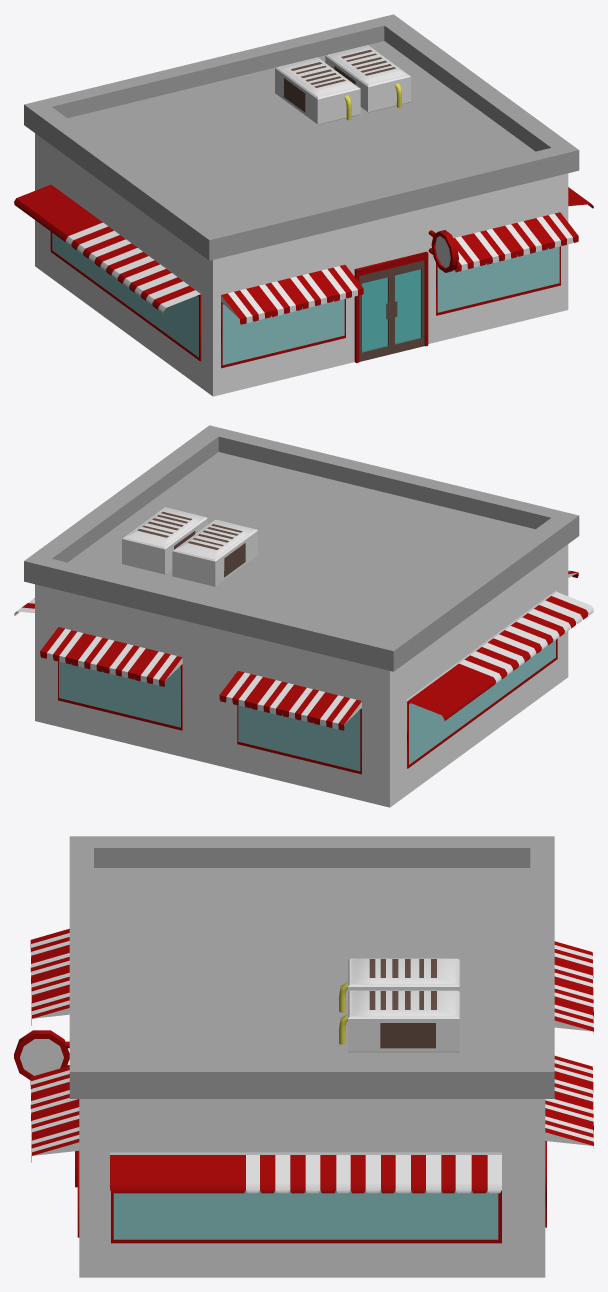
The model's file is Building_1Story_Mod_1.fbx.
3 views of the same model, one above another, from view 1: azimuth 30°, elevation 25°; view 2: azimuth 150°, elevation 25°; view 3: azimuth 270°, elevation 25° (orthographic). The views are drawn at different scales.
Parts seen in each view (by area): view 1: Roof, Building387, Windows3, Aircon5, Aircon4, Door31, Door30, Sign2; view 2: Roof, Building387, Windows3, Aircon5, Aircon4; view 3: Roof, Building387, Windows3, Aircon4, Aircon5, Sign2.
Part boxes in pixels (bbox=[...]): Roof: bbox=[24, 14, 579, 260]; Building387: bbox=[35, 133, 568, 396]; Windows3: bbox=[14, 182, 593, 368]; Aircon5: bbox=[275, 57, 360, 124]; Aircon4: bbox=[325, 45, 410, 112]; Door31: bbox=[391, 260, 424, 353]; Door30: bbox=[359, 268, 391, 361]; Sign2: bbox=[428, 230, 458, 272]; Roof: bbox=[24, 425, 579, 671]; Building387: bbox=[35, 544, 568, 807]; Windows3: bbox=[14, 570, 593, 774]; Aircon5: bbox=[172, 519, 257, 586]; Aircon4: bbox=[122, 507, 207, 574]; Roof: bbox=[69, 836, 554, 1098]; Building387: bbox=[75, 1099, 545, 1277]; Windows3: bbox=[30, 928, 593, 1243]; Aircon4: bbox=[339, 990, 459, 1052]; Aircon5: bbox=[339, 958, 459, 1012]; Sign2: bbox=[14, 1030, 69, 1080].
Size of the model in its own units: 11.11 by 4.32 by 9.93.
